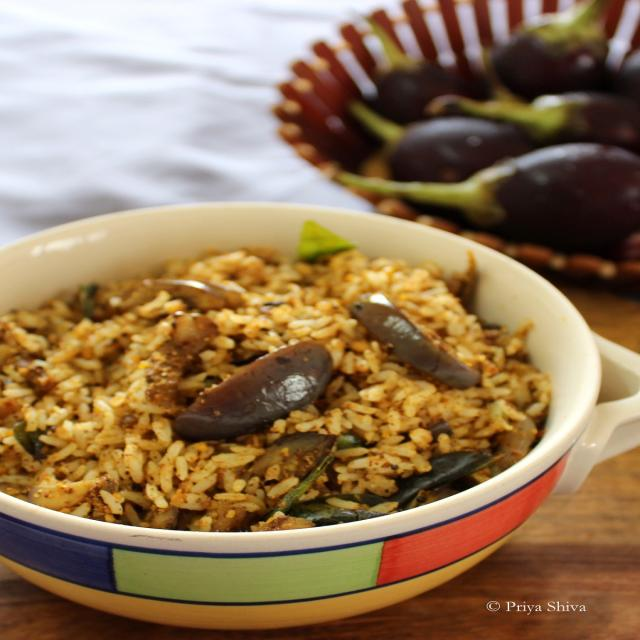vangi bath: (0, 222, 586, 550)
